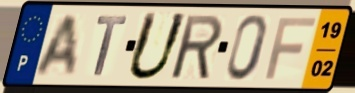0: (225, 12, 271, 83)
A: (32, 12, 79, 78)
F: (263, 16, 319, 82)
R: (170, 13, 225, 82)
T: (92, 14, 129, 78)
U: (124, 10, 191, 83)
